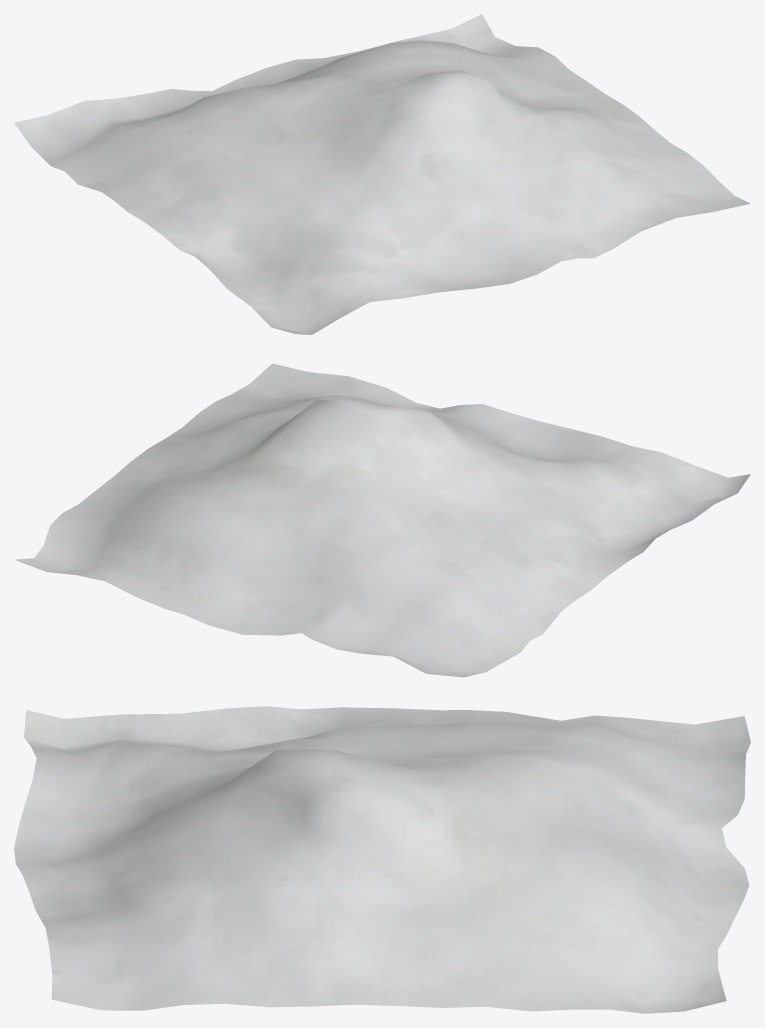
File: snow_dummy_2.fbx
The picture shows the model from 3 angles, top to bottom: view 1: azimuth 30°, elevation 25°; view 2: azimuth 150°, elevation 25°; view 3: azimuth 270°, elevation 25°; orthographic projection. The views are drawn at different scales.
Parts seen in each view (by area): view 1: snow_dummy_3; view 2: snow_dummy_3; view 3: snow_dummy_3.
Part boxes in pixels (bbox=[...]): snow_dummy_3: bbox=[14, 14, 750, 334]; snow_dummy_3: bbox=[14, 363, 750, 677]; snow_dummy_3: bbox=[14, 706, 750, 1013].
Bounding box in the file's own units: 660 × 683 × 146.
